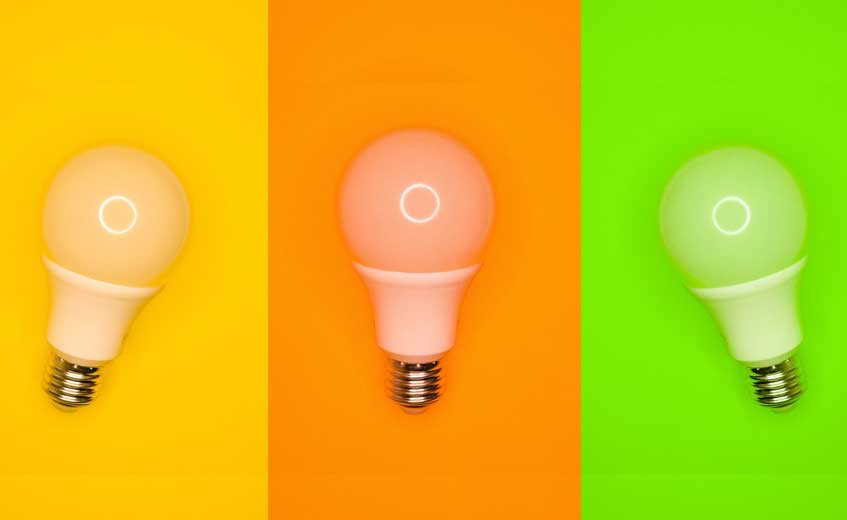Light_bulb: (316, 125, 515, 435), (27, 138, 212, 426), (650, 129, 818, 422)
